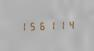five: (27, 20, 36, 31)
four: (68, 19, 77, 29)
one: (48, 19, 57, 30), (58, 19, 67, 30), (17, 21, 26, 31)
six: (38, 20, 47, 30)
